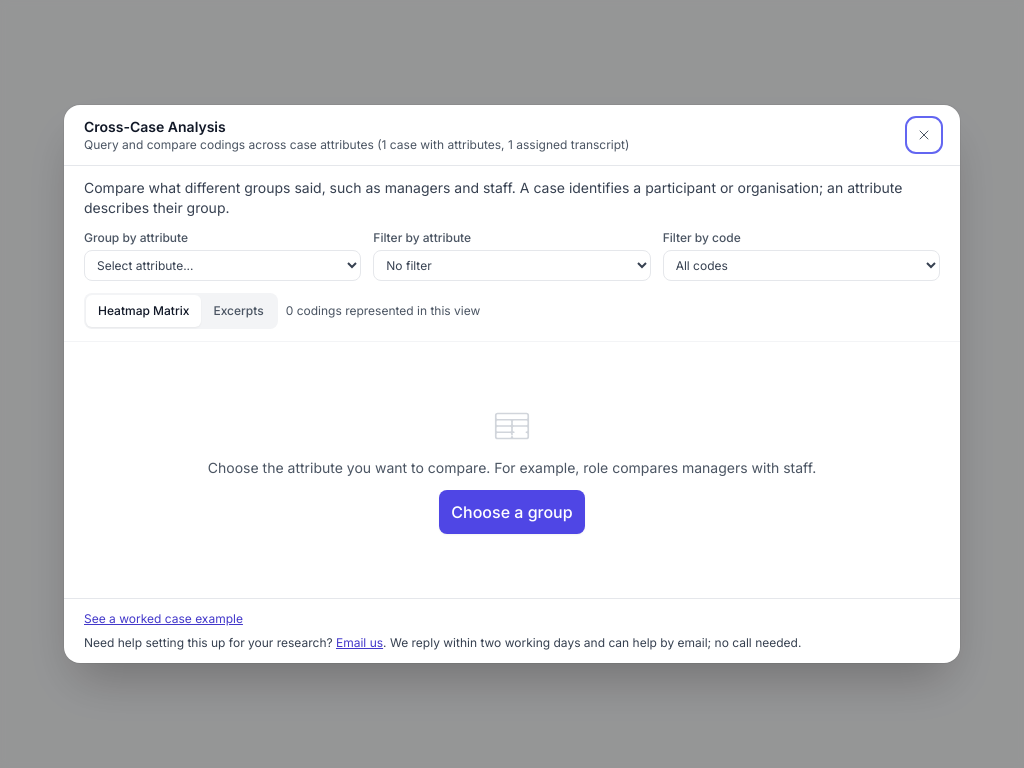
cross-case first-use and honest recovery › distinguishes a filter miss from missing saved research and resets only filters
Select "role" in the dropdown labelled "Group by attribute". click: (223, 266)
box: [84,250,361,281]
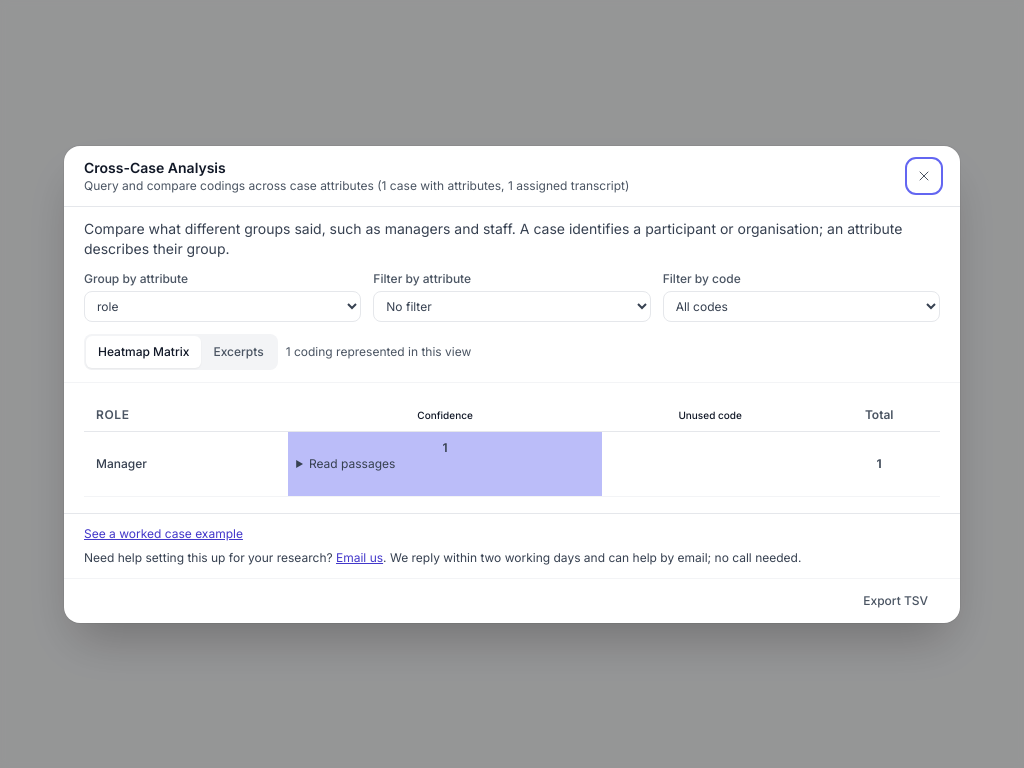
Click the button "Excerpts". click: (239, 352)
box: [201,336,276,368]
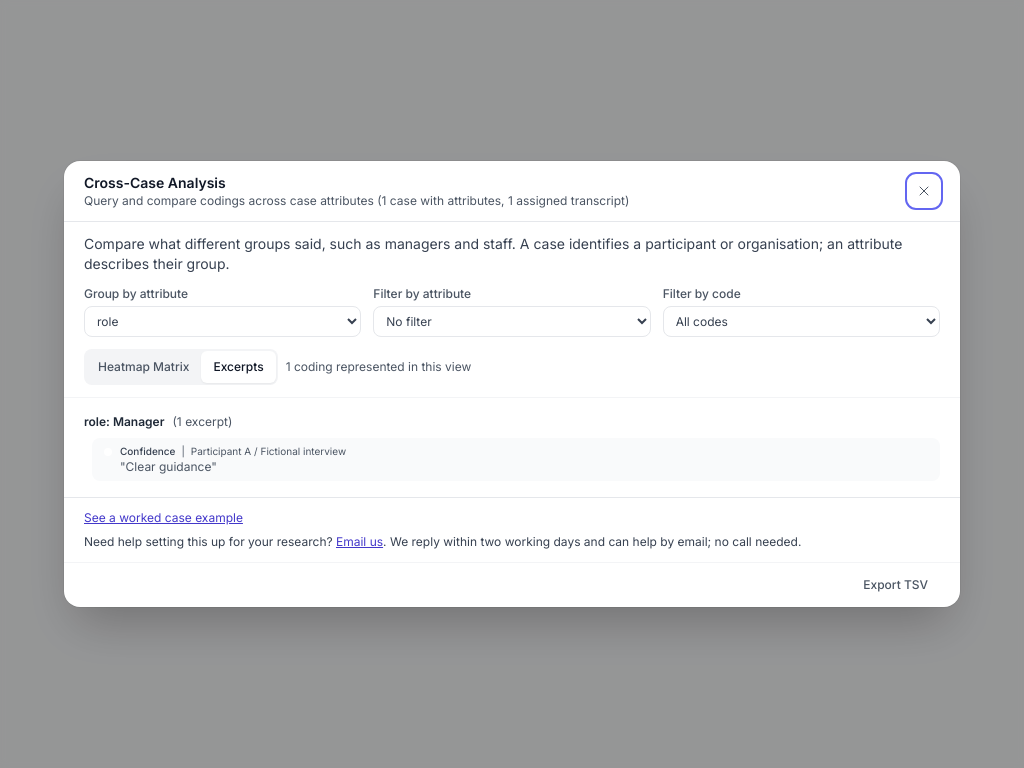
Select "Unused code" in the dropdown labelled "Filter by code". click: (801, 322)
box: [663,306,940,337]
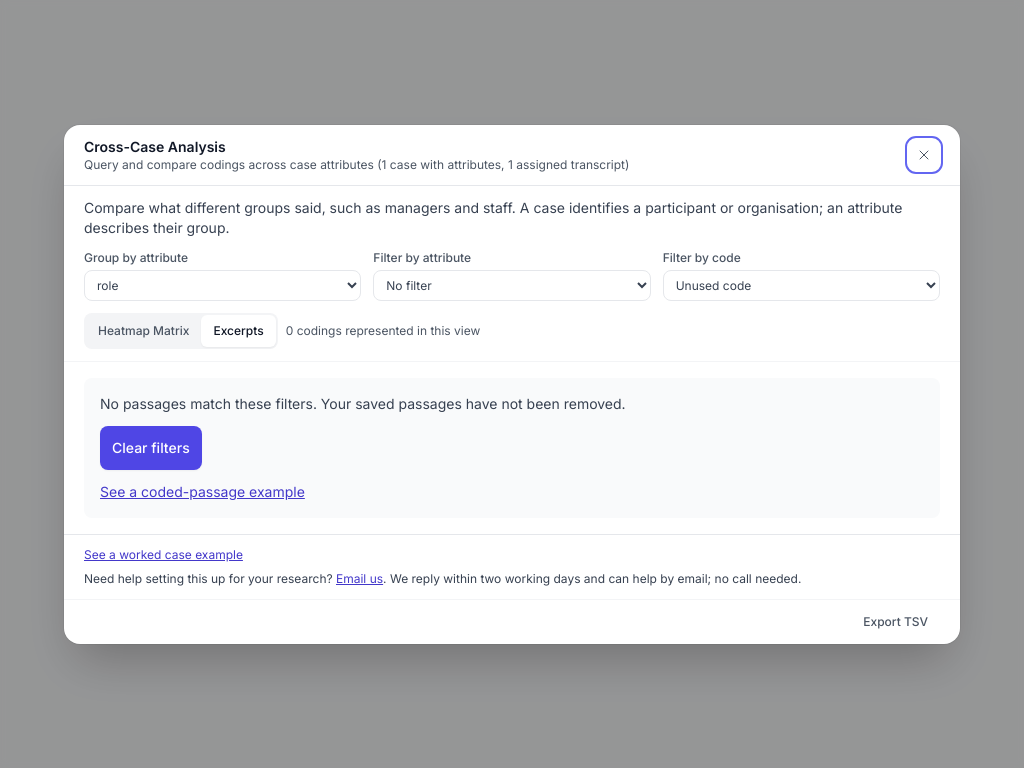
Check: the text "Your saved passages have not been removed" is shown, box [100,394,626,412]
Click the button "Clear filters". click: (151, 448)
box: [100,426,202,470]
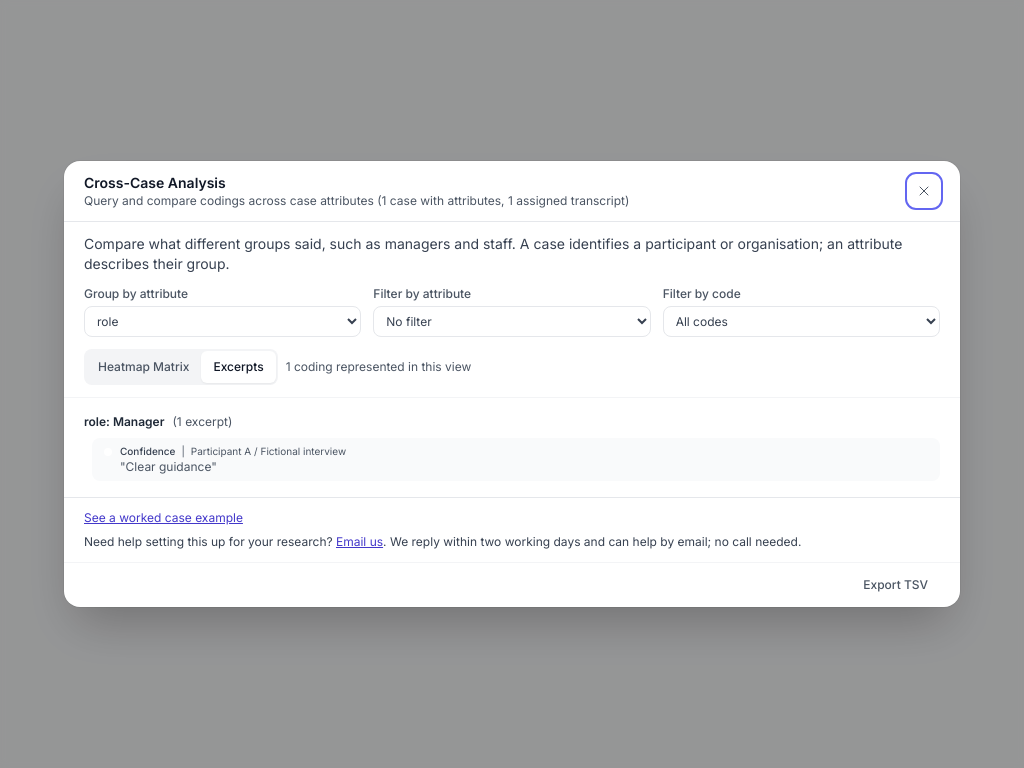
Check: the text "\"Clear guidance\"" is shown, box [120,459,217,474]
